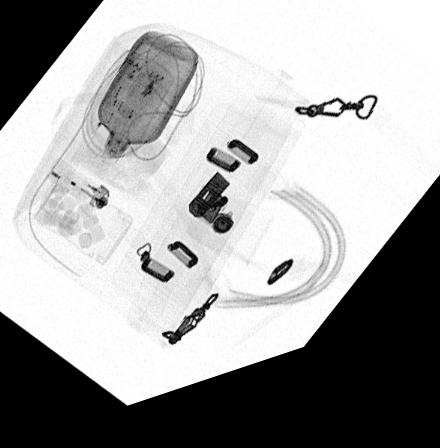Lighter: (47, 160, 108, 216)
